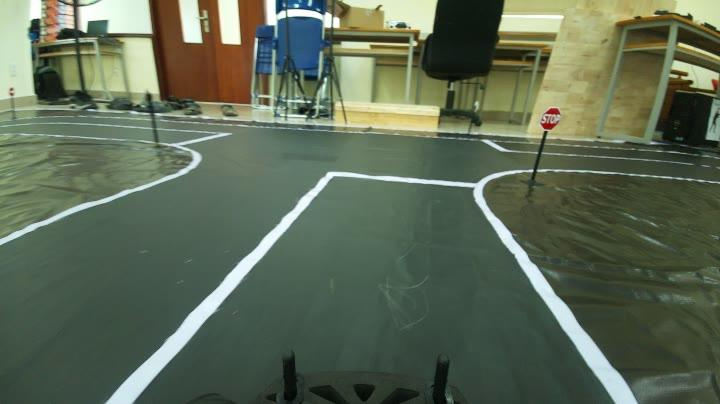stop: (536, 106, 562, 132)
